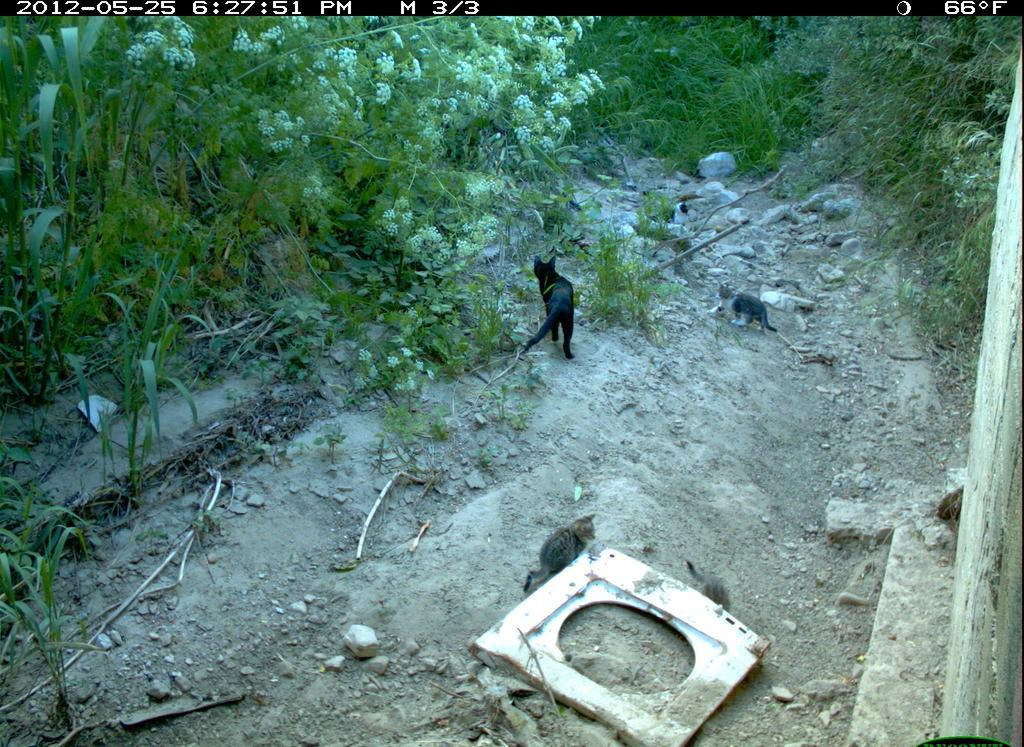cat: (515, 253, 589, 364), (520, 511, 599, 598), (702, 272, 784, 340), (678, 552, 740, 623)
